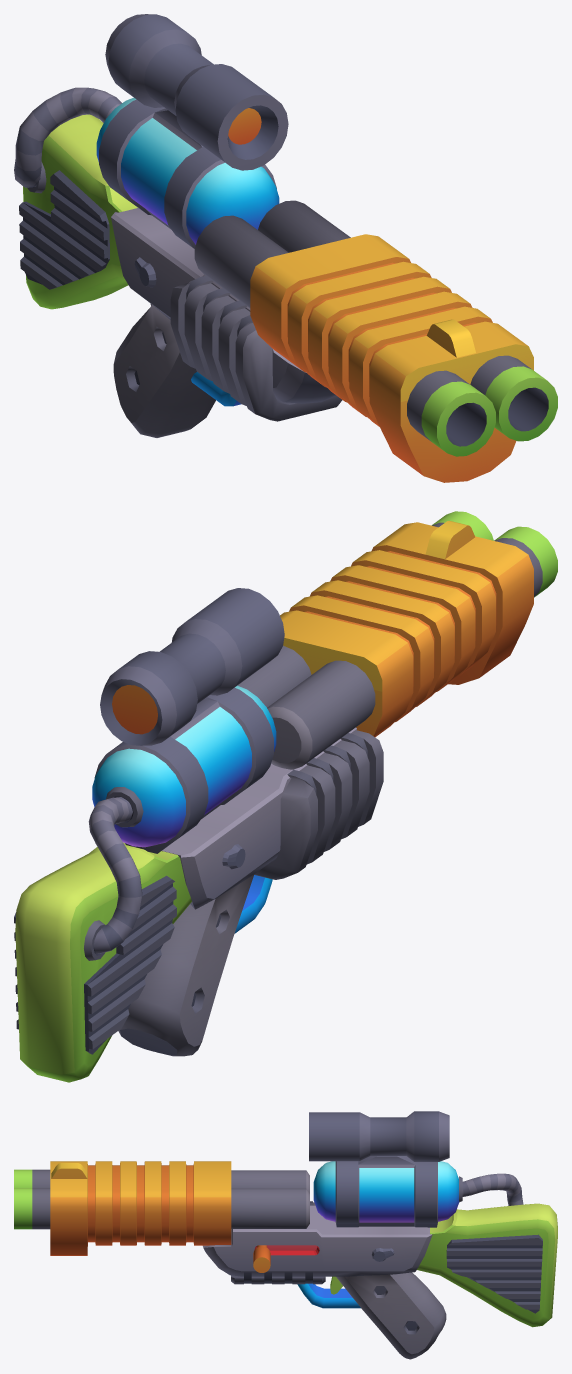
The model's file is Rifle D.fbx.
The picture shows the model from 3 angles, top to bottom: view 1: azimuth 30°, elevation 25°; view 2: azimuth 150°, elevation 25°; view 3: azimuth 270°, elevation 25°; orthographic projection. The views are drawn at different scales.
Parts seen in each view (by area): view 1: Rifle D, Rifle D.001, Rifle D.002; view 2: Rifle D, Rifle D.002, Rifle D.001; view 3: Rifle D, Rifle D.002, Rifle D.001.
Part boxes in pixels (x1,y1,x2,y2): Rifle D: (19,114,557,456); Rifle D.001: (250,234,533,482); Rifle D.002: (14,14,288,248); Rifle D: (14,511,557,1082); Rifle D.002: (88,588,284,953); Rifle D.001: (280,520,533,737); Rifle D: (14,1169,557,1359); Rifle D.002: (309,1111,523,1227); Rifle D.001: (50,1161,231,1255).
Bounding box in the file's own units: 0.2349 × 0.5363 × 1.1.
